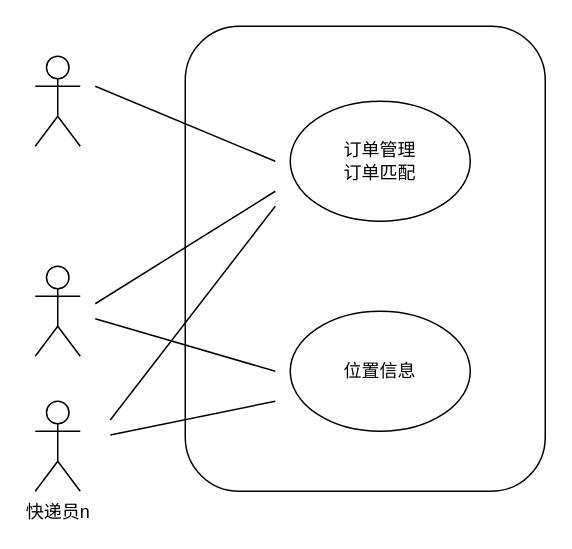
The diagram is 572 pixels wide and 549 high, and some of its shapes have lost their labels. The shapes that lost their labels are listed below. From the top down, each one's centre as x and y in pixels, then its label:
the point at 57,100: 用户
the point at 57,310: 快递员1
